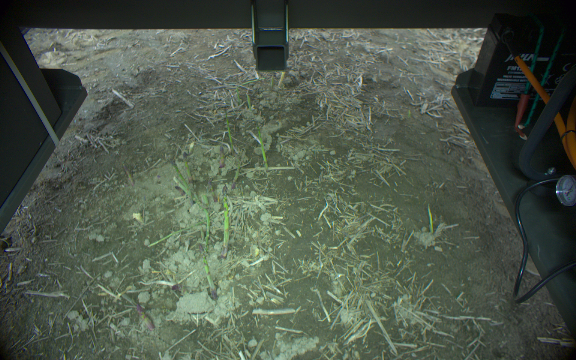aspa: (143, 211, 216, 248), (196, 245, 220, 300), (217, 183, 234, 255), (249, 129, 273, 171), (168, 159, 193, 198), (179, 151, 197, 196), (220, 104, 236, 149), (199, 204, 214, 243), (214, 142, 228, 169), (245, 87, 254, 111), (278, 70, 286, 89), (267, 72, 276, 88)
